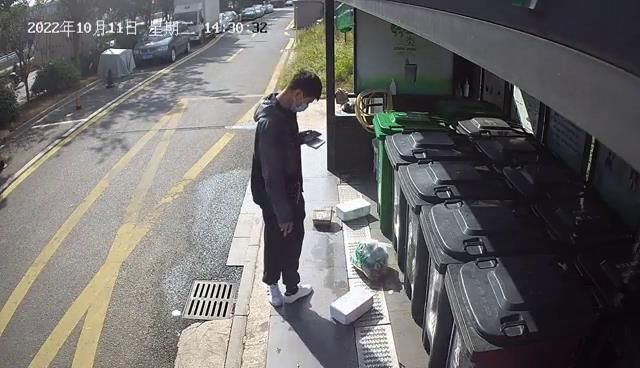person: (249, 68, 323, 308)
suliaozhipin: (351, 239, 393, 283)
zhizhipin: (329, 287, 375, 325), (336, 199, 372, 221), (312, 203, 334, 229)
